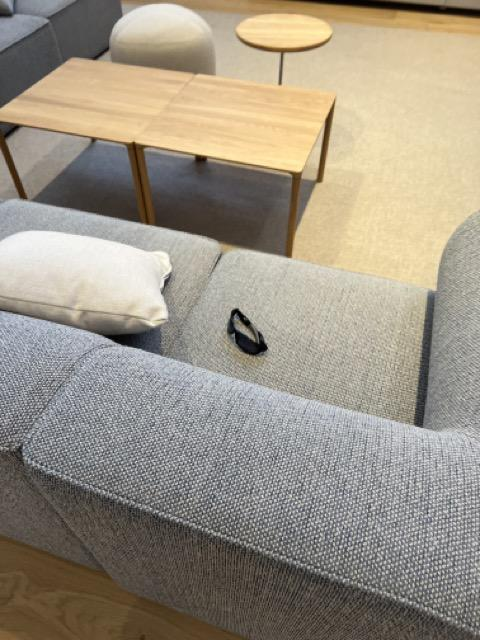Sunglasses: (227, 306, 270, 358)
